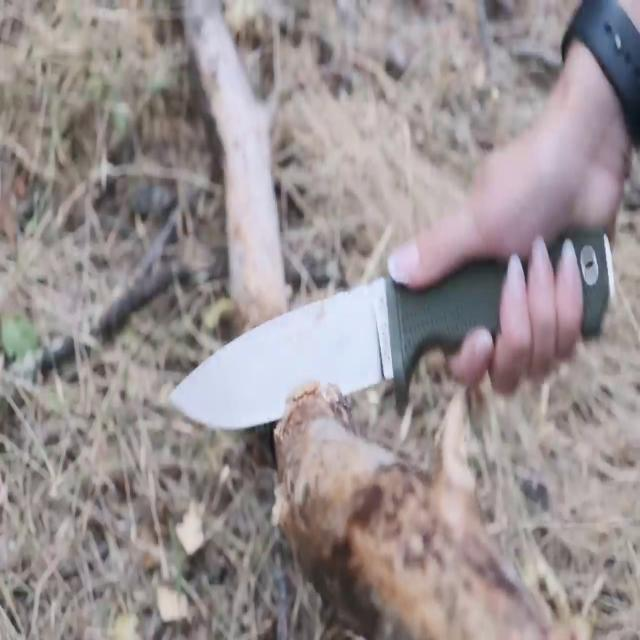Knife: (166, 197, 611, 464)
